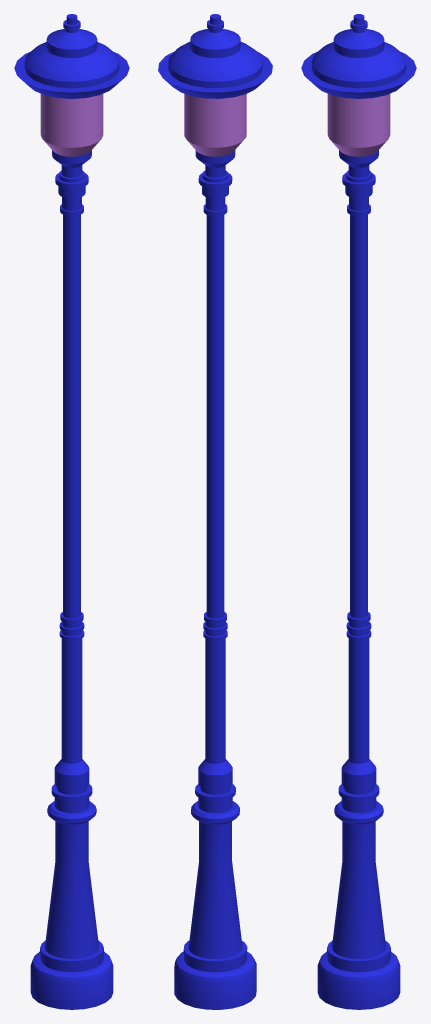
The model's file is StreetLamp_01.fbx.
3 views of the same model, side by side, from view 1: azimuth 90°, elevation 25°; view 2: azimuth 150°, elevation 25°; view 3: azimuth 270°, elevation 25° (orthographic).
Parts seen in each view (by area): view 1: lamp_02; view 2: lamp_02; view 3: lamp_02.
Part boxes in pixels (box(x1,y1,x2,y2)): lamp_02: box(14, 14, 129, 1009); lamp_02: box(158, 14, 272, 1009); lamp_02: box(301, 14, 416, 1009).
Bounding box in the file's own units: 45.95 × 429 × 45.95.
